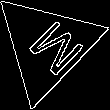M_SW: (13, 12, 81, 80)
